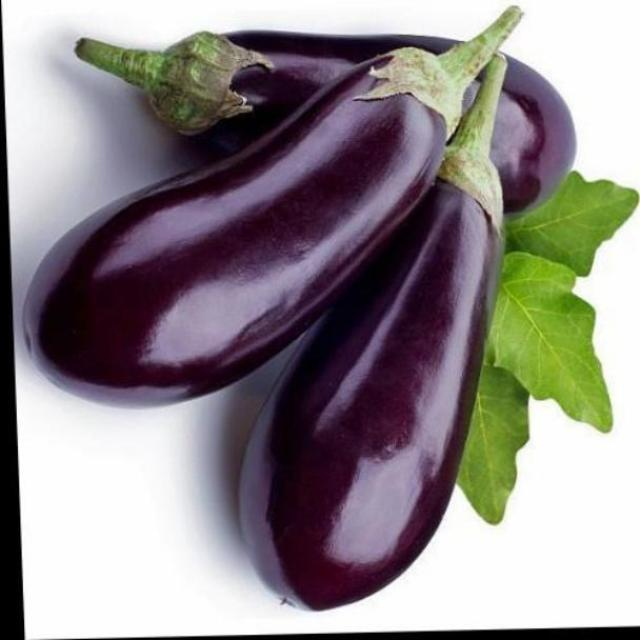eggplant: (29, 40, 443, 404), (238, 139, 509, 606), (151, 34, 574, 212)
